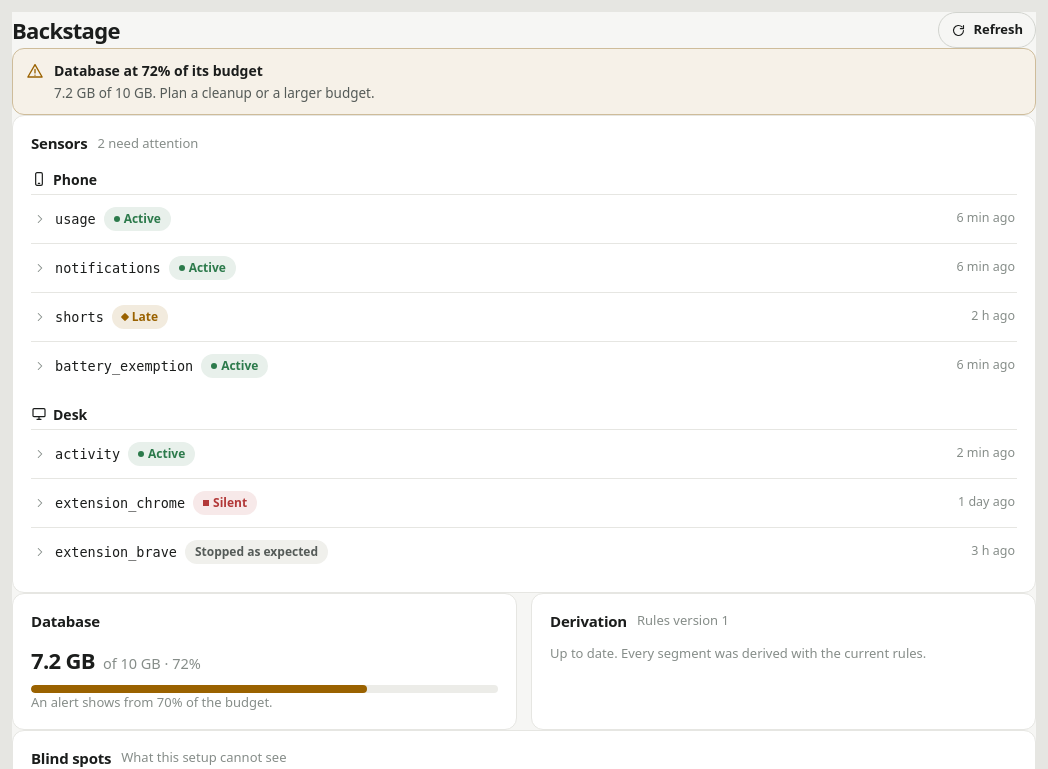
Backstage › says since which YouTube version Shorts are not classified
This screenshot has width=1048, height=769.
Click the text "shorts" at (79, 317), box x1=55 y1=307 x2=104 y2=327
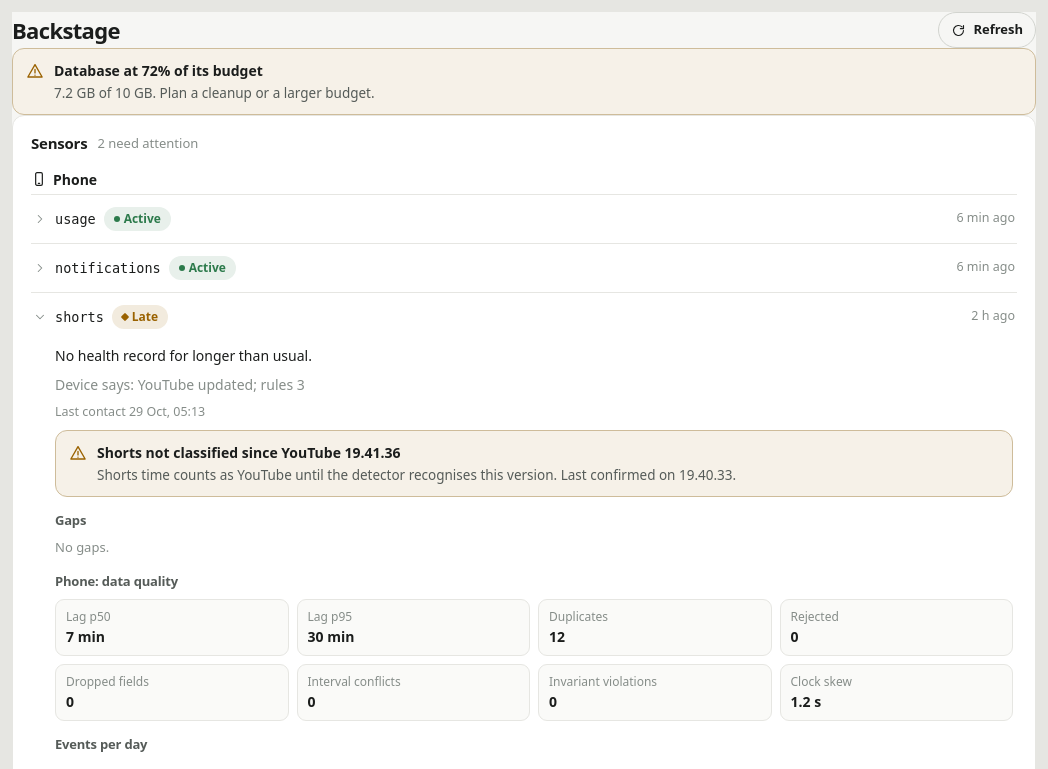
Check: the text "Shorts not classified since YouTube 19.41.36" is shown, box x1=97 y1=442 x2=401 y2=462
Check: the text "Last confirmed on 19.40.33" is shown, box x1=557 y1=466 x2=736 y2=484
